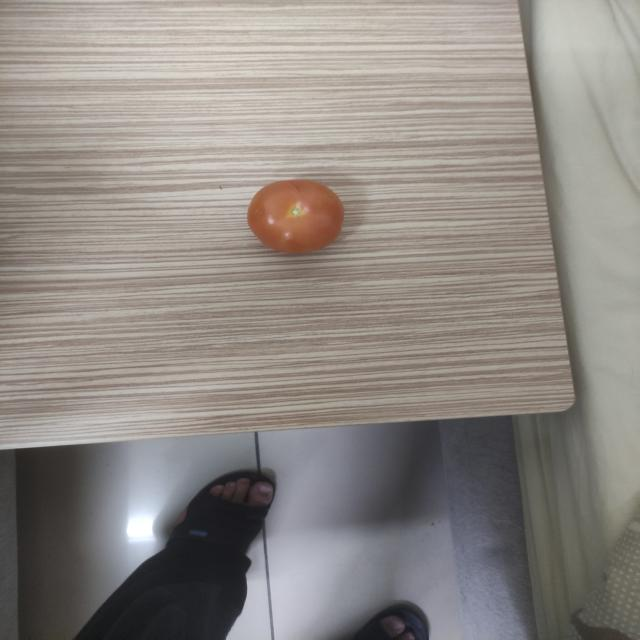sari: (236, 168, 352, 260)
